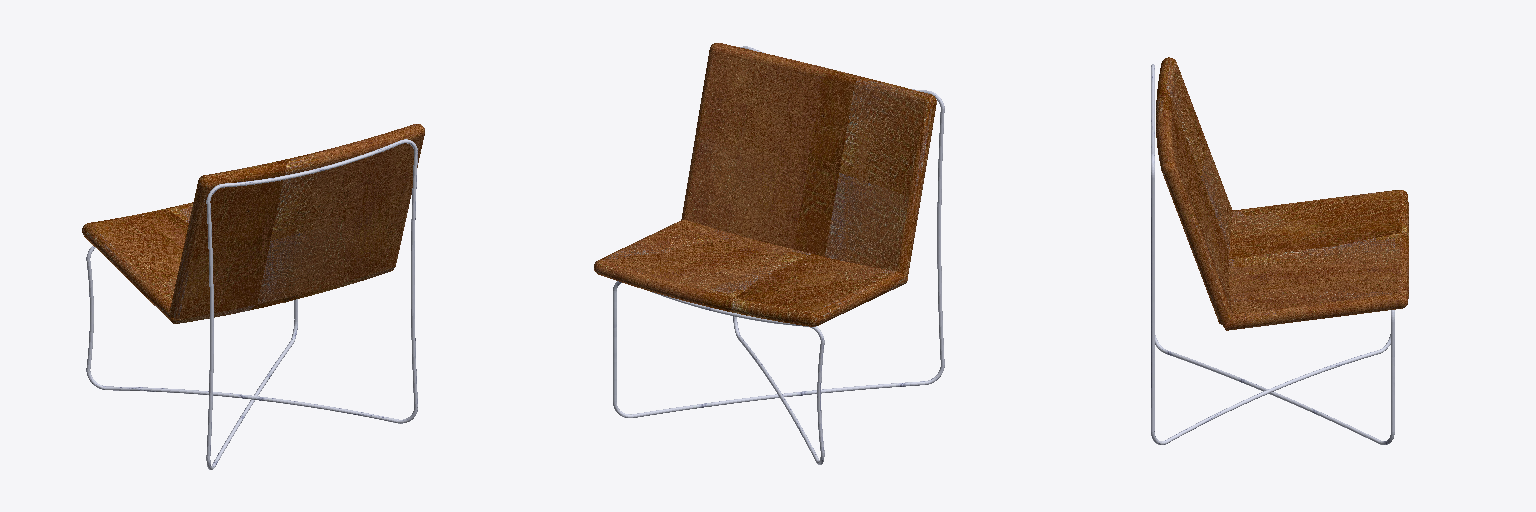
3 renders of one model, left to right at view 1: azimuth 30°, elevation 25°; view 2: azimuth 150°, elevation 25°; view 3: azimuth 270°, elevation 25°, orthographic.
Visible parts, largest first — view 1: mesh26_mesh26-geometry, mesh25_mesh25-geometry, mesh1_mesh1-geometry; view 2: mesh26_mesh26-geometry, mesh25_mesh25-geometry, mesh1_mesh1-geometry; view 3: mesh25_mesh25-geometry, mesh26_mesh26-geometry, mesh1_mesh1-geometry.
Part boxes in pixels (x1,y1,x2,y2): mesh26_mesh26-geometry: (82,153,317,323); mesh25_mesh25-geometry: (287,124,424,301); mesh1_mesh1-geometry: (86,139,417,469); mesh26_mesh26-geometry: (703,68,936,326); mesh25_mesh25-geometry: (594,43,825,305); mesh1_mesh1-geometry: (613,46,944,464); mesh25_mesh25-geometry: (1156,111,1408,330); mesh26_mesh26-geometry: (1156,57,1408,268); mesh1_mesh1-geometry: (1151,64,1394,444).
Bounding box in the file's own units: 0.5332 × 0.6605 × 0.5281.
Materials: 4 (3 with a texture image).